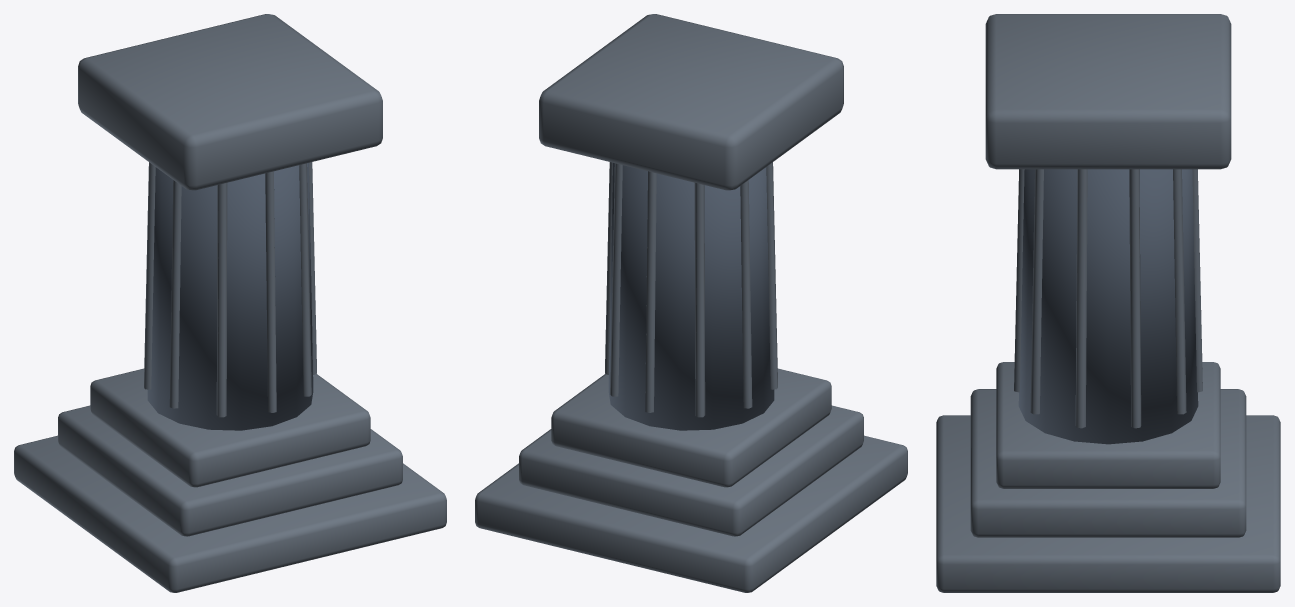
Rendered from prop-1-refined-v15.fbx.
The picture shows the model from 3 angles, left to right: view 1: azimuth 30°, elevation 25°; view 2: azimuth 150°, elevation 25°; view 3: azimuth 270°, elevation 25°; orthographic projection. The views are drawn at different scales.
Visible parts, largest first — view 1: Capital.001, FlutedPillar.001, SteppedPlinth.003, SteppedPlinth.004, SteppedPlinth.005, ColumnFlute.019, ColumnFlute.010, ColumnFlute.018, ColumnFlute.011, ColumnFlute.017, ColumnFlute.012; view 2: Capital.001, FlutedPillar.001, SteppedPlinth.003, SteppedPlinth.004, SteppedPlinth.005, ColumnFlute.016, ColumnFlute.015, ColumnFlute.017, ColumnFlute.014, ColumnFlute.018, ColumnFlute.013; view 3: Capital.001, FlutedPillar.001, SteppedPlinth.003, SteppedPlinth.004, SteppedPlinth.005, ColumnFlute.012, ColumnFlute.013, ColumnFlute.011, ColumnFlute.014, ColumnFlute.010, ColumnFlute.015.
Part boxes in pixels (x1,y1,x2,y2): Capital.001: [78, 14, 382, 190]; FlutedPillar.001: [147, 163, 313, 430]; SteppedPlinth.003: [14, 435, 446, 592]; SteppedPlinth.004: [58, 405, 402, 536]; SteppedPlinth.005: [90, 368, 370, 487]; ColumnFlute.019: [216, 183, 227, 417]; ColumnFlute.010: [265, 171, 276, 412]; ColumnFlute.018: [169, 180, 181, 408]; ColumnFlute.011: [299, 163, 311, 396]; ColumnFlute.017: [144, 162, 155, 389]; ColumnFlute.012: [309, 162, 316, 374]; Capital.001: [539, 14, 843, 190]; FlutedPillar.001: [608, 163, 774, 430]; SteppedPlinth.003: [475, 435, 907, 592]; SteppedPlinth.004: [519, 405, 863, 536]; SteppedPlinth.005: [551, 368, 831, 487]; ColumnFlute.016: [694, 183, 705, 417]; ColumnFlute.015: [645, 171, 656, 412]; ColumnFlute.017: [740, 180, 752, 408]; ColumnFlute.014: [610, 163, 622, 396]; ColumnFlute.018: [766, 162, 777, 389]; ColumnFlute.013: [605, 162, 612, 374]; Capital.001: [985, 14, 1231, 169]; FlutedPillar.001: [1018, 169, 1198, 444]; SteppedPlinth.003: [936, 415, 1280, 592]; SteppedPlinth.004: [970, 389, 1246, 537]; SteppedPlinth.005: [996, 362, 1220, 488]; ColumnFlute.012: [1075, 169, 1087, 428]; ColumnFlute.013: [1129, 169, 1141, 428]; ColumnFlute.011: [1030, 169, 1043, 414]; ColumnFlute.014: [1173, 169, 1186, 414]; ColumnFlute.010: [1014, 169, 1024, 392]; ColumnFlute.015: [1192, 169, 1202, 392].
Bounding box in the file's own units: 115 × 170 × 115.
